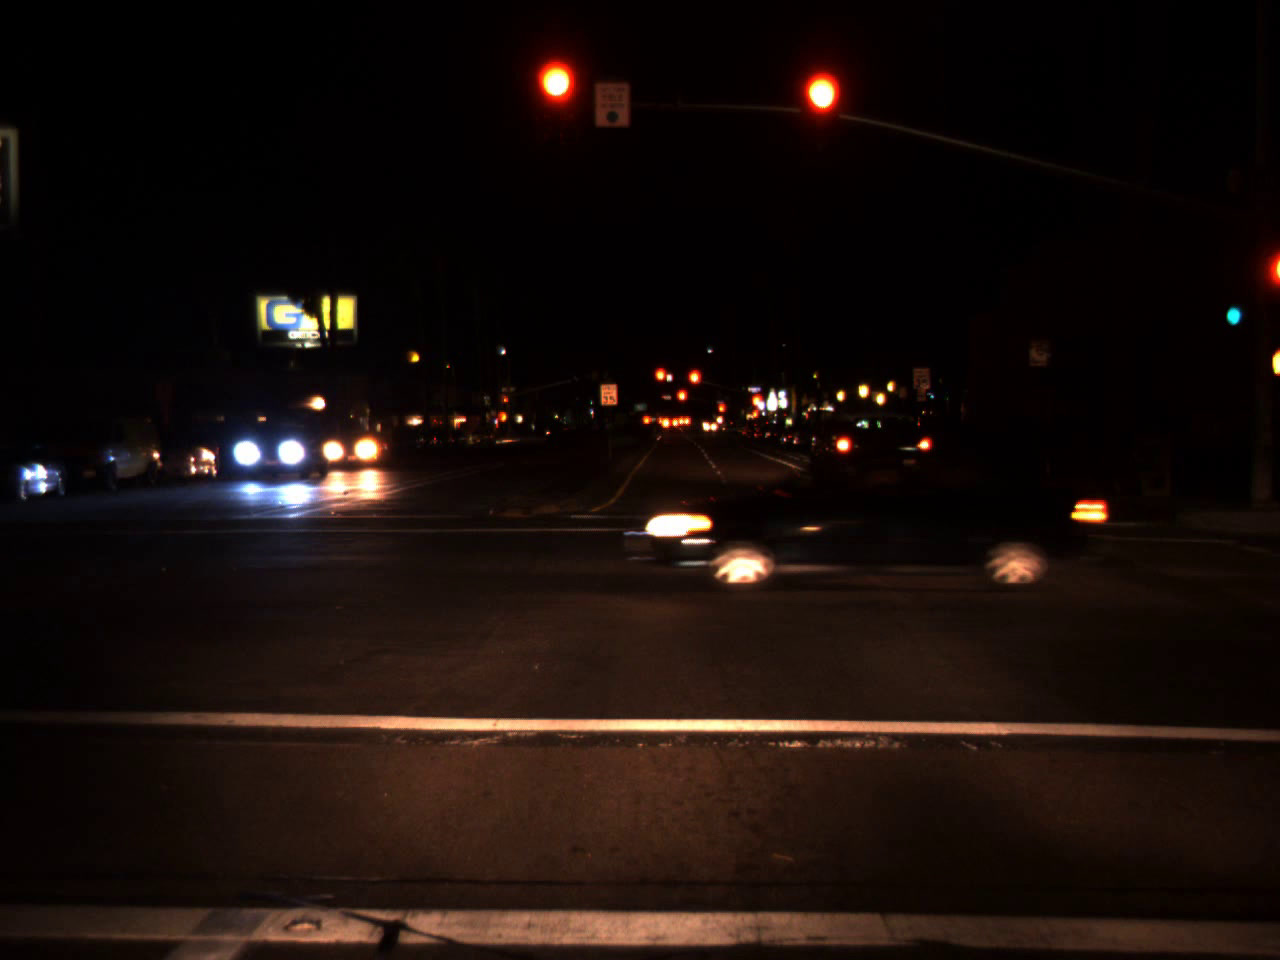stop: (537, 63, 577, 141), (801, 73, 840, 151), (686, 368, 702, 400), (653, 366, 669, 395), (674, 387, 689, 414), (749, 393, 764, 419), (717, 402, 726, 423), (503, 397, 509, 407)
